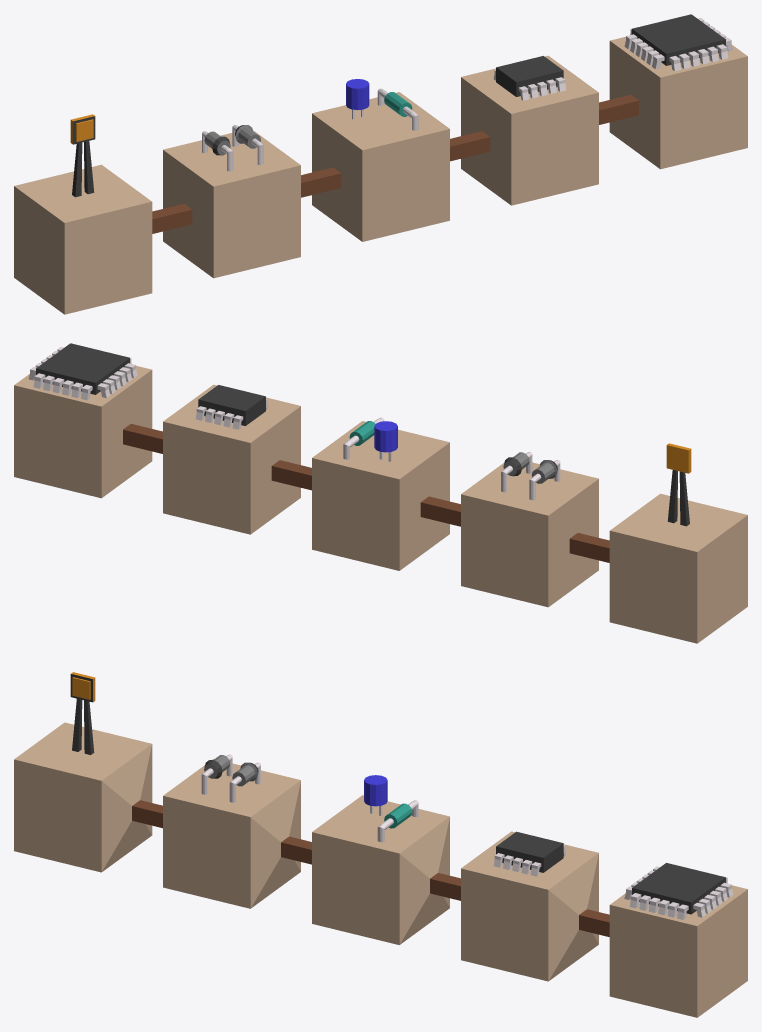
The model's file is circuit.fbx.
3 views of the same model, one above another, from view 1: azimuth 30°, elevation 25°; view 2: azimuth 150°, elevation 25°; view 3: azimuth 330°, elevation 25° (orthographic).
Visible parts, largest first — view 1: connection, mcu, legs.001, opamp, piezo, rc, diodes, legs; view 2: connection, mcu, legs.001, opamp, piezo, diodes, rc, legs; view 3: connection, mcu, legs.001, opamp, piezo, rc, diodes, legs.
Boxes of the visible parts, left/top/right/bottom form: connection: left=14, top=36, right=747, bottom=314; mcu: left=632, top=14, right=725, bottom=65; legs.001: left=624, top=16, right=732, bottom=71; opamp: left=496, top=56, right=563, bottom=96; piezo: left=70, top=114, right=95, bottom=197; rc: left=346, top=79, right=418, bottom=130; diodes: left=202, top=125, right=263, bottom=171; legs: left=493, top=70, right=566, bottom=100; connection: left=14, top=365, right=747, bottom=643; mcu: left=36, top=343, right=129, bottom=394; legs.001: left=28, top=345, right=137, bottom=400; opamp: left=198, top=385, right=265, bottom=425; piezo: left=666, top=443, right=691, bottom=526; diodes: left=501, top=452, right=560, bottom=500; rc: left=343, top=417, right=397, bottom=461; legs: left=195, top=399, right=268, bottom=429; connection: left=14, top=722, right=747, bottom=1017; mcu: left=632, top=863, right=725, bottom=914; legs.001: left=624, top=864, right=733, bottom=919; opamp: left=496, top=831, right=563, bottom=872; piezo: left=70, top=672, right=95, bottom=754; rc: left=364, top=775, right=418, bottom=842; diodes: left=201, top=754, right=260, bottom=802; legs: left=493, top=845, right=566, bottom=876.
Size of the model in its own units: 156 by 36.57 by 20.
